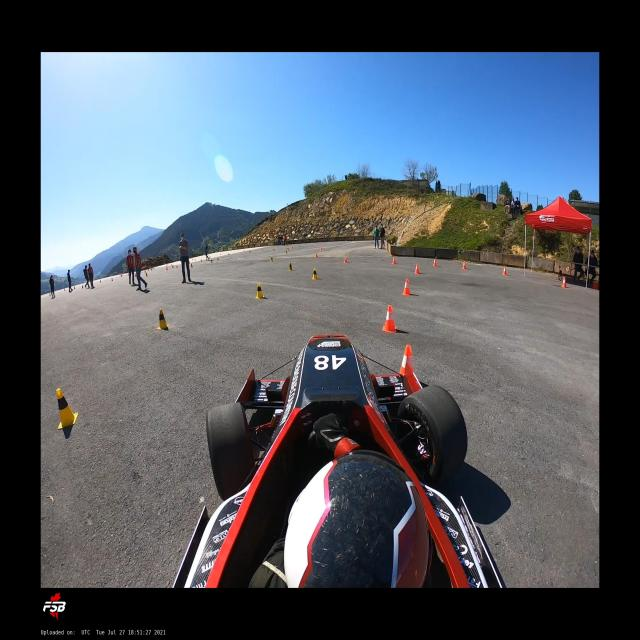orange_cone: (399, 345, 414, 374), (382, 304, 397, 332), (401, 278, 412, 296), (414, 263, 420, 274), (502, 266, 507, 276), (562, 277, 566, 288), (432, 258, 437, 266), (462, 261, 467, 269), (343, 256, 348, 263), (392, 257, 396, 264), (316, 252, 318, 257), (313, 245, 315, 248), (167, 266, 168, 270), (176, 264, 177, 268), (172, 266, 174, 268), (191, 264, 192, 268), (228, 253, 230, 255), (120, 274, 122, 276), (74, 286, 75, 289), (100, 280, 101, 283), (112, 278, 113, 281), (146, 273, 147, 276), (135, 274, 136, 277), (321, 247, 322, 250), (292, 246, 293, 248), (262, 249, 263, 251), (50, 294, 50, 296)
yellow_cone: (56, 388, 79, 429), (156, 308, 170, 329), (256, 282, 264, 299), (311, 267, 318, 280), (288, 262, 292, 271), (271, 256, 273, 262), (64, 288, 65, 291), (82, 286, 83, 289), (201, 259, 202, 262), (211, 261, 212, 263), (286, 251, 287, 253), (249, 252, 250, 254), (288, 248, 288, 251), (274, 249, 274, 251), (218, 258, 218, 260)
